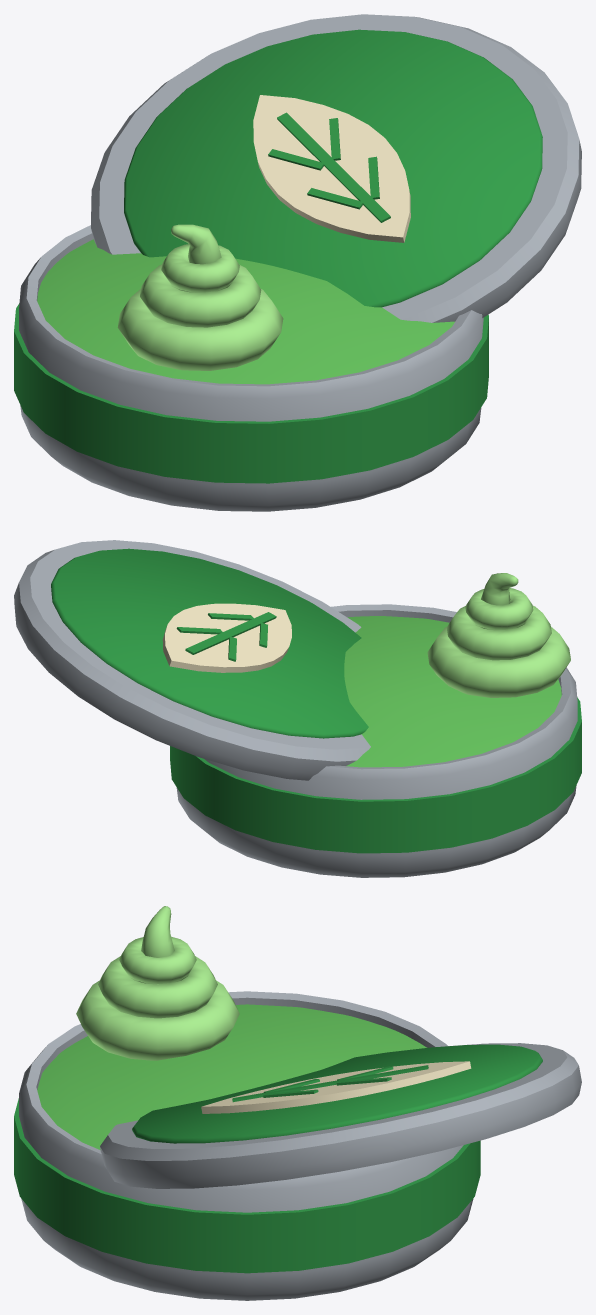
File: item_regen_salve.glb
The picture shows the model from 3 angles, top to bottom: view 1: azimuth 30°, elevation 25°; view 2: azimuth 150°, elevation 25°; view 3: azimuth 270°, elevation 25°; orthographic projection. The views are drawn at different scales.
Parts seen in each view (by area): view 1: RegenSalve; view 2: RegenSalve; view 3: RegenSalve.
Part boxes in pixels (x1,y1,x2,y2): RegenSalve: [14, 14, 581, 511]; RegenSalve: [14, 540, 581, 877]; RegenSalve: [14, 906, 581, 1300].
Bounding box in the file's own units: 0.22 × 0.0972 × 0.2017.
